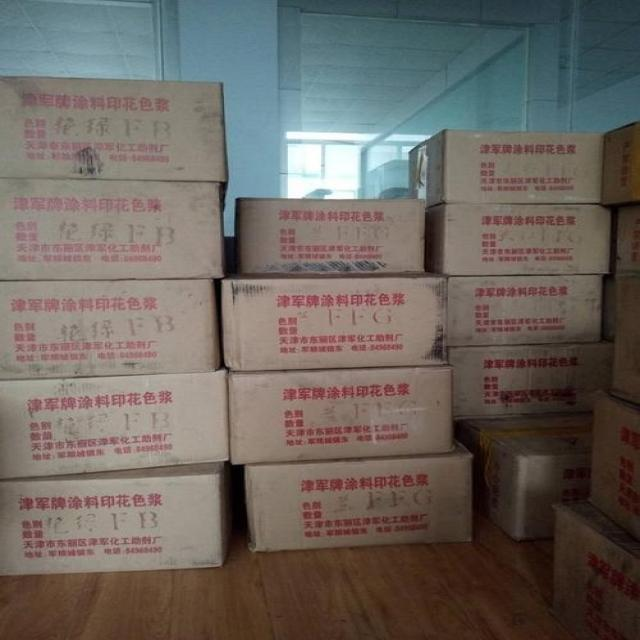box: (0, 74, 228, 213), (1, 463, 232, 578), (0, 371, 232, 479), (243, 444, 477, 551), (0, 279, 224, 381), (228, 368, 460, 463), (4, 180, 224, 280), (223, 275, 445, 369), (454, 412, 594, 545), (406, 128, 608, 210), (234, 198, 426, 276), (447, 339, 621, 423), (428, 200, 611, 276), (547, 501, 640, 639), (445, 275, 607, 347), (591, 393, 640, 543), (602, 279, 640, 405), (599, 121, 640, 203), (609, 205, 640, 279), (220, 236, 242, 280)
